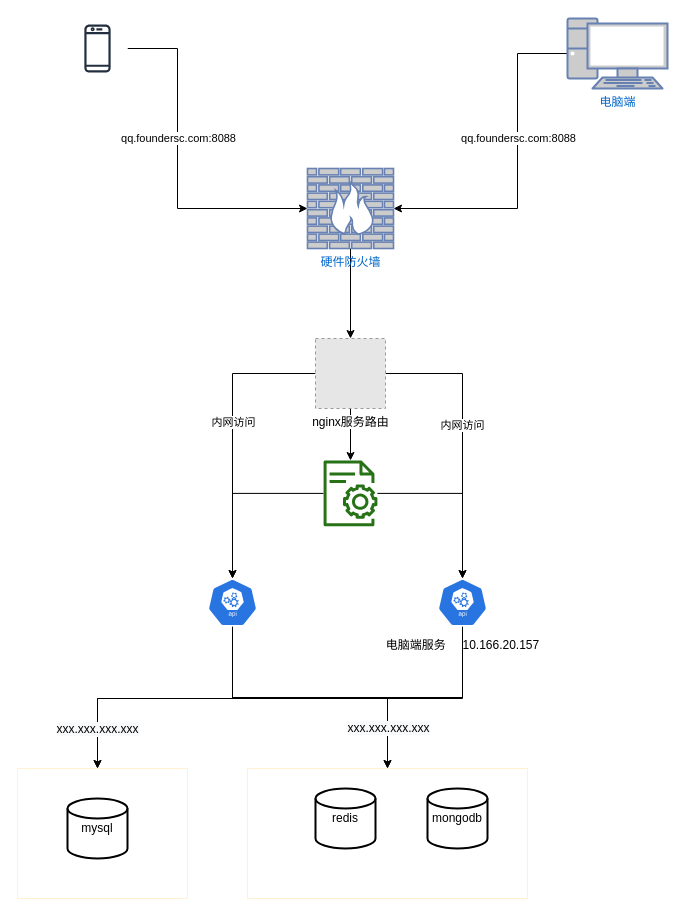
Some shapes in this 686 by 916 pixel diagram are drawn without their labels. Grey dashed boxes stand in for pictures. Each missing label, with the centre of its shape:
"手机端" belongs at (x=97, y=48).
"手机端服务 10.166.20.157" belongs at (x=232, y=602).
"资源文件" belongs at (x=350, y=493).
